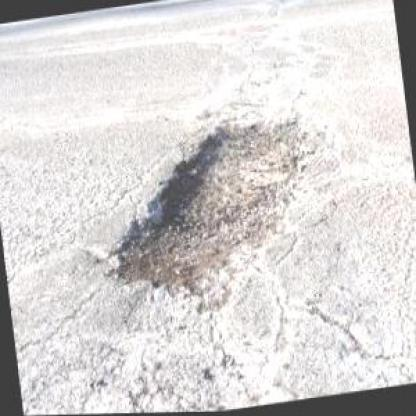pothole: (92, 106, 340, 322)
